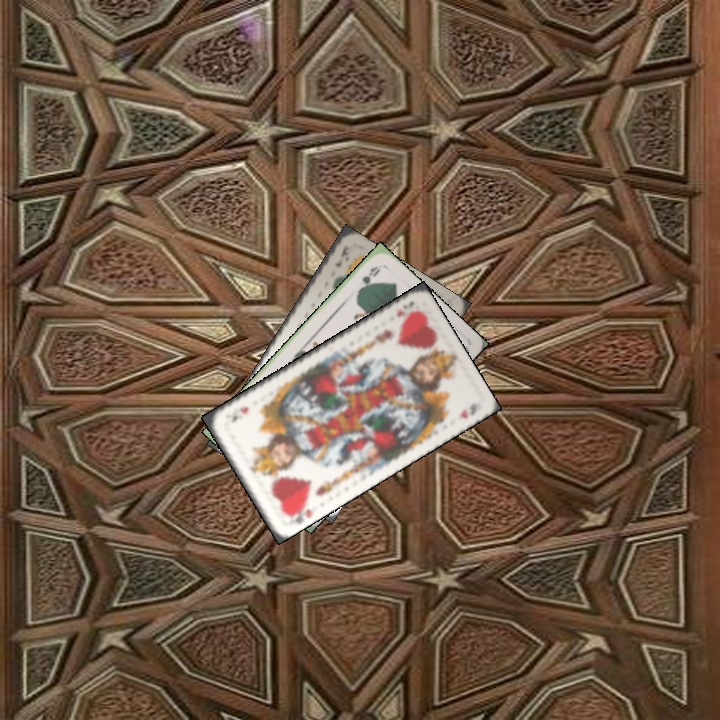EK: (331, 242, 354, 270)
GO: (353, 262, 383, 297)
HK: (282, 498, 315, 526), (393, 296, 417, 320)
